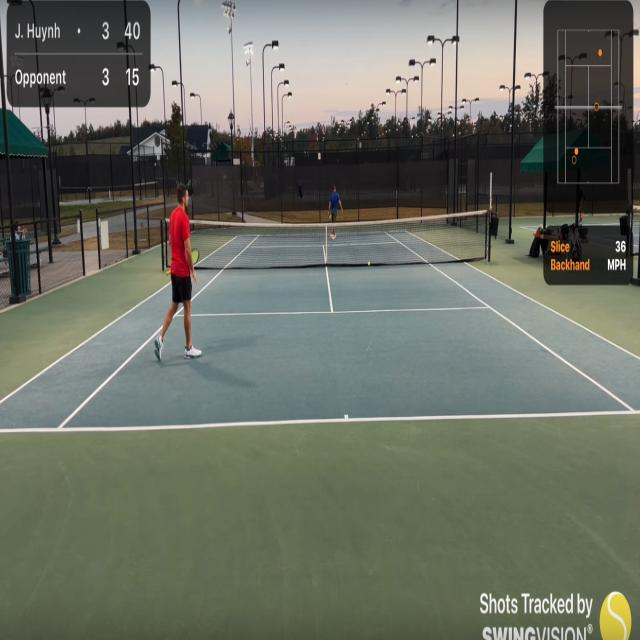ball: (368, 260, 370, 266)
